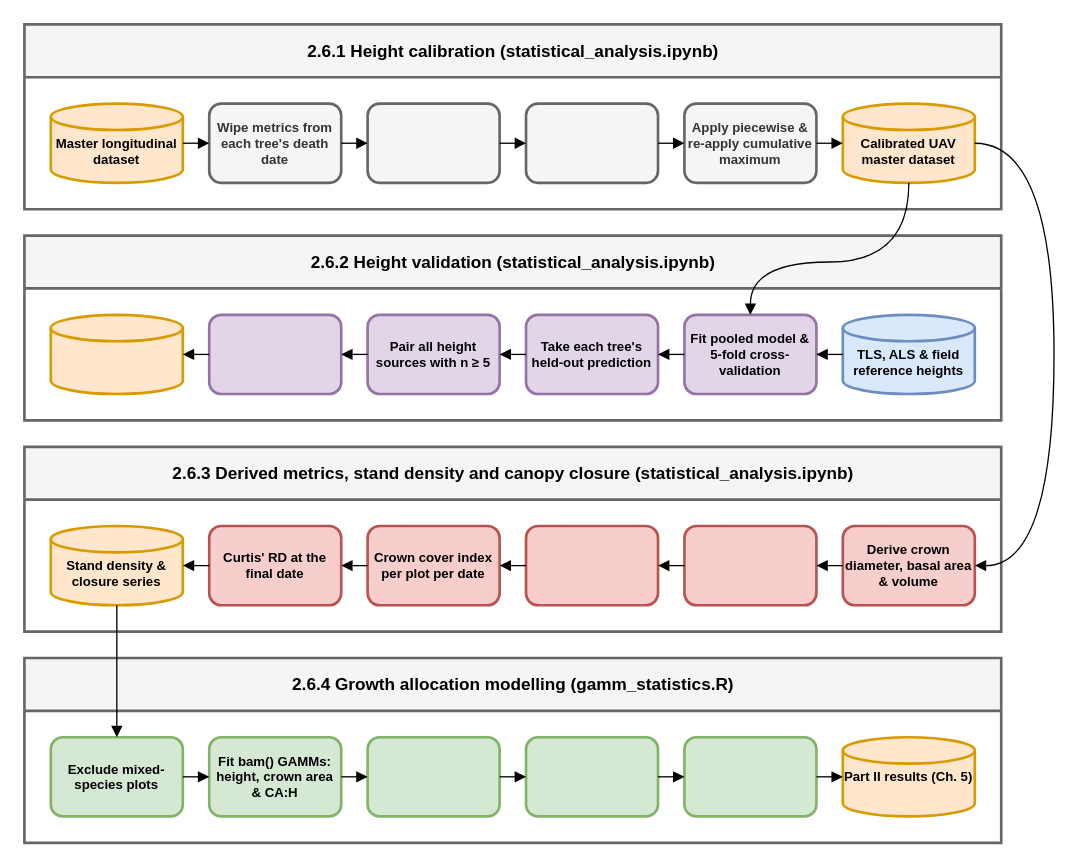
Some shapes in this 1077 by 866 pixel diagram are drawn without their labels. The centre of each missing label's shape, as x and y in pixels:
"Adjust stems per hectare for mortality" goes at (749,565).
"Apply cumulative maximum per tree" goes at (433,142).
"Delta-method pairwise contrasts, 300-day grid" goes at (749,776).
"Duan smearing back-transformation" goes at (591,776).
"Fit per-species OLS at three reference epochs" goes at (591,142).
"Refit with per-cell variance weights" goes at (433,776).
"Reineke SDI & RDI per plot per date" goes at (591,565).
"R² (OLS); RMSE, MAE, rRMSE & bias about 1:1" goes at (274,354).
"Tables 3.1 & 3.2" goes at (116,354).
